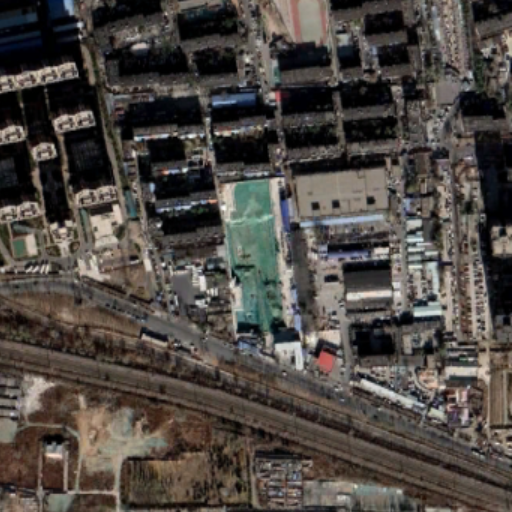cw: (217, 174, 286, 343)
